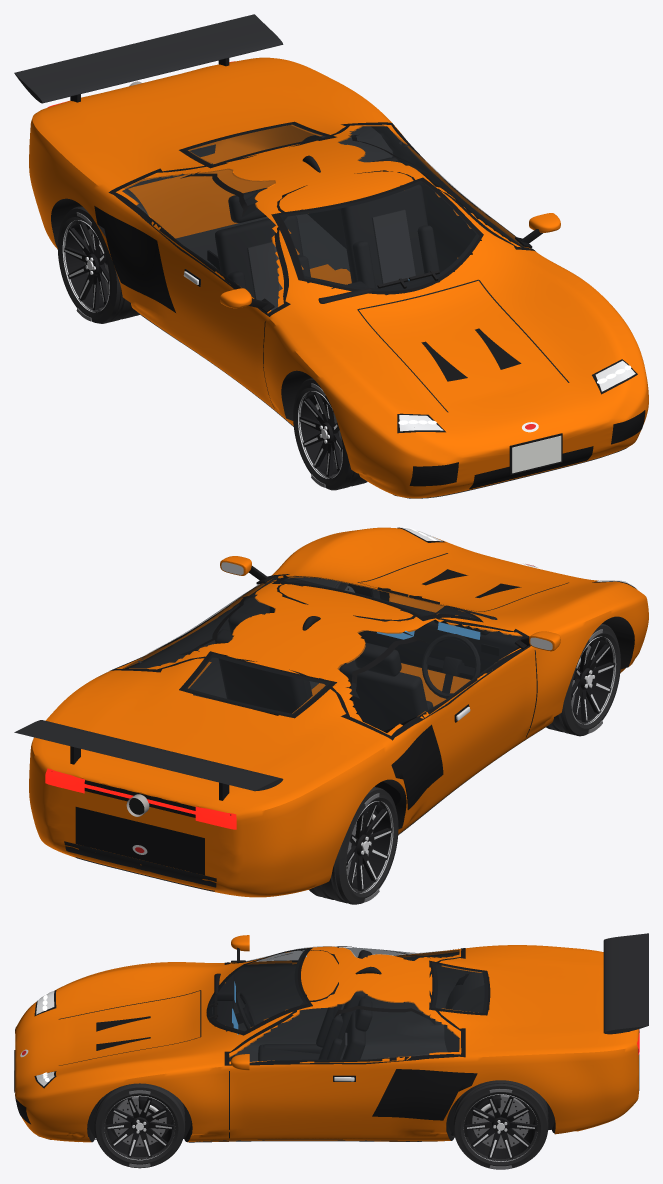
3 renders of one model, top to bottom at view 1: azimuth 30°, elevation 25°; view 2: azimuth 150°, elevation 25°; view 3: azimuth 270°, elevation 25°, orthographic. The views are drawn at different scales.
Visible parts, largest first — view 1: Body, Wheel_RR, Wheel_FR; view 2: Body, Wheel_RR, Wheel_FR; view 3: Body, Wheel_RL, Wheel_FL.
Boxes of the visible parts, x1,y1,x2,y2 form: Body: [14, 14, 648, 498]; Wheel_RR: [57, 205, 139, 323]; Wheel_FR: [293, 378, 367, 490]; Body: [14, 527, 648, 897]; Wheel_RR: [309, 786, 398, 904]; Wheel_FR: [546, 624, 620, 736]; Body: [14, 933, 648, 1142]; Wheel_RL: [453, 1080, 548, 1169]; Wheel_FL: [94, 1083, 185, 1168].
Bounding box in the file's own units: 2.26 × 1.22 × 4.7.
